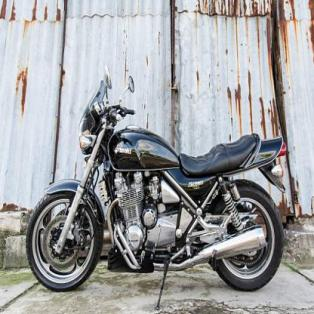Motocicleta: (24, 66, 286, 307)
